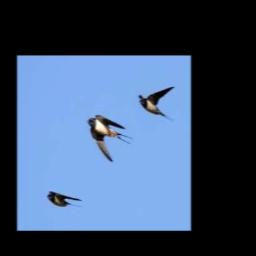Swallow: (88, 114, 134, 162), (139, 86, 175, 122), (48, 191, 82, 207)
